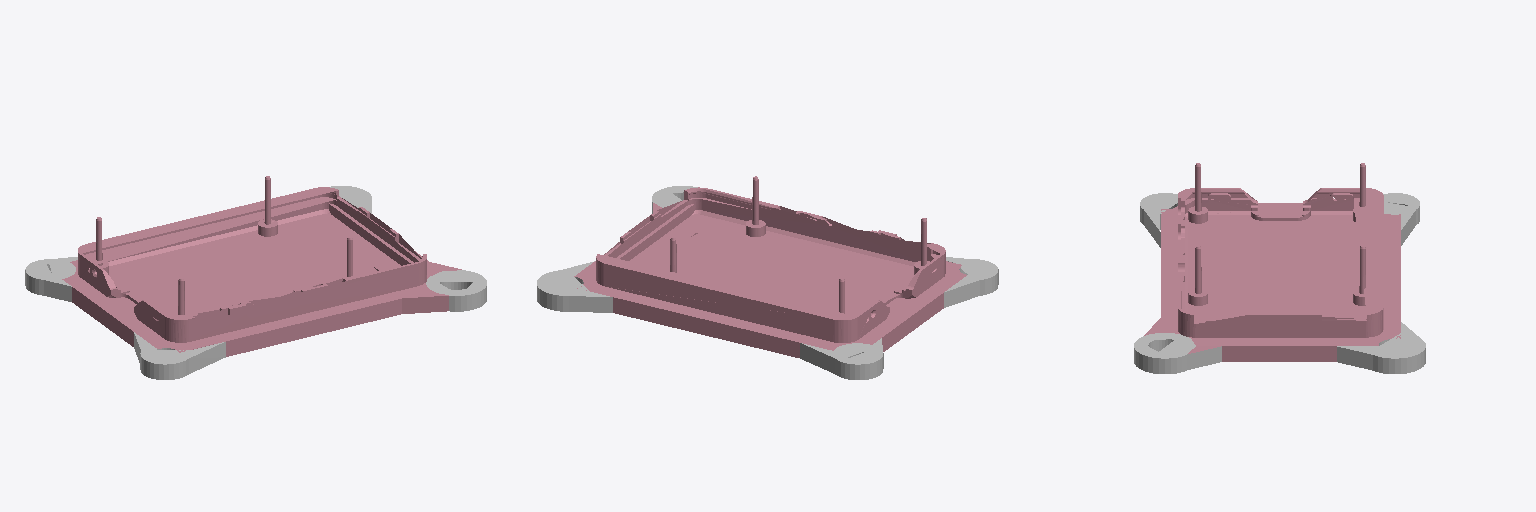
The model's file is casingV3down.obj.
3 views of the same model, side by side, from view 1: azimuth 30°, elevation 25°; view 2: azimuth 150°, elevation 25°; view 3: azimuth 270°, elevation 25° (orthographic).
Parts seen in each view (by area): view 1: Bottom; view 2: Bottom; view 3: Bottom.
Part boxes in pixels (left/top/right/bottom): Bottom: left=25, top=176, right=486, bottom=379; Bottom: left=537, top=176, right=998, bottom=379; Bottom: left=1134, top=163, right=1425, bottom=373.
Size of the model in its own units: 117 by 23.54 by 87.05.